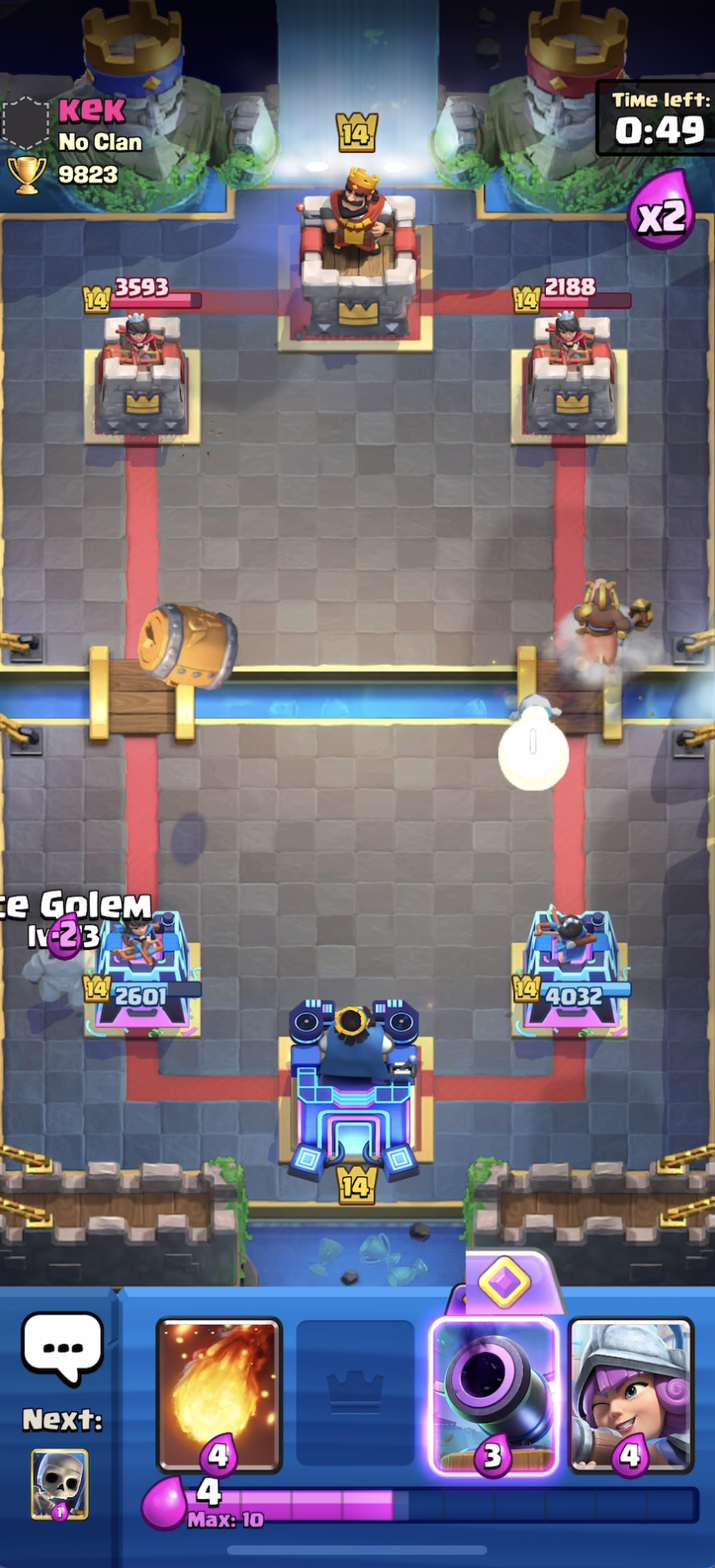hog_rider: (559, 571, 656, 688)
